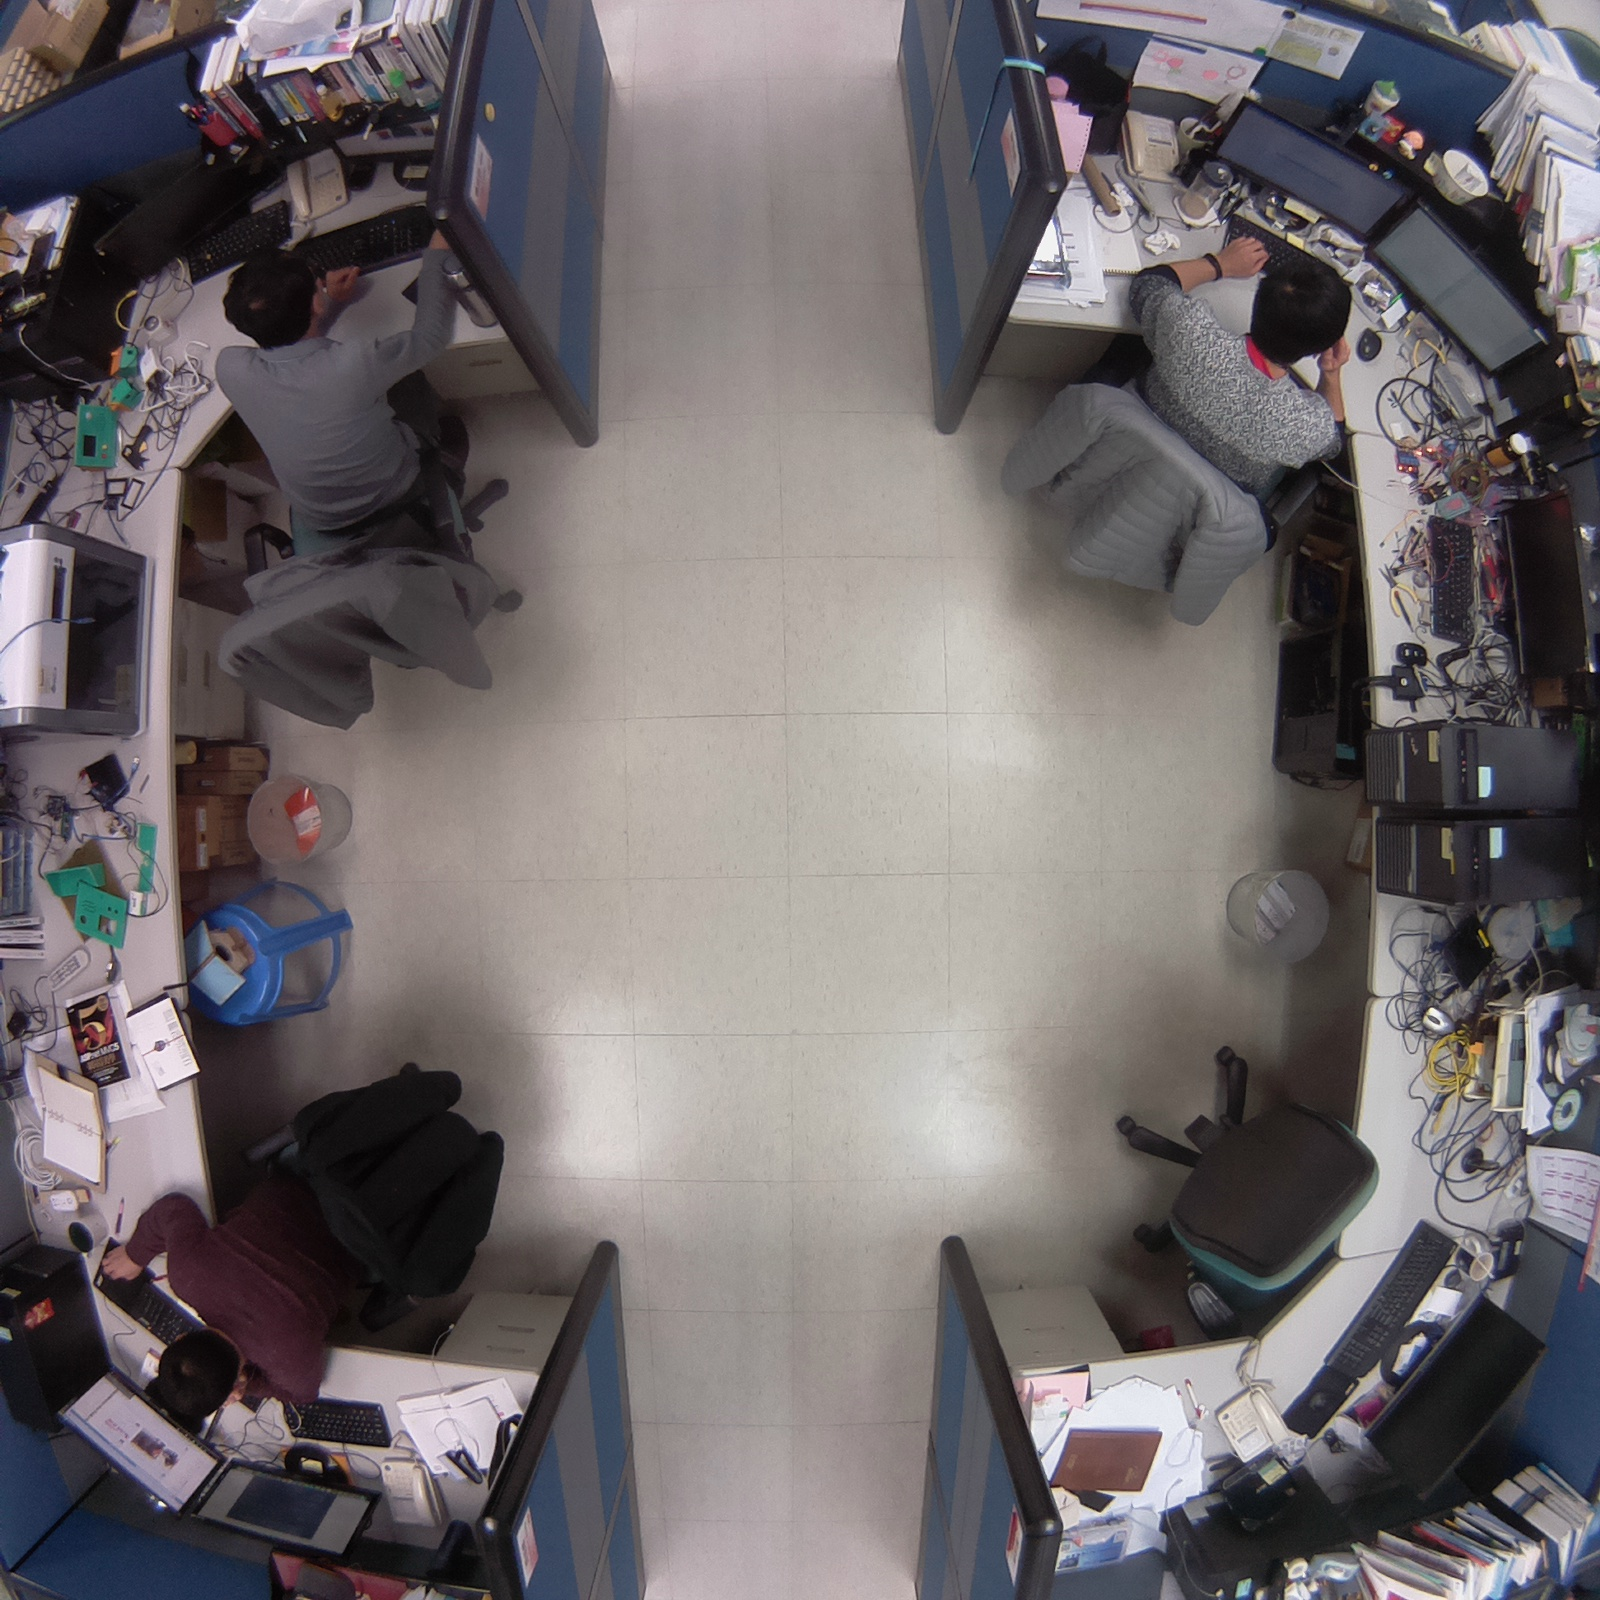chair: (1091, 1029, 1399, 1355)
head: (1244, 259, 1357, 365), (217, 244, 319, 348), (149, 1331, 246, 1429)
sitting: (186, 226, 550, 752), (81, 1040, 524, 1434), (968, 227, 1363, 650)
